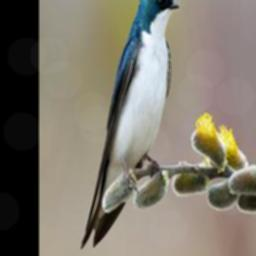Swallow: (80, 0, 180, 252)
